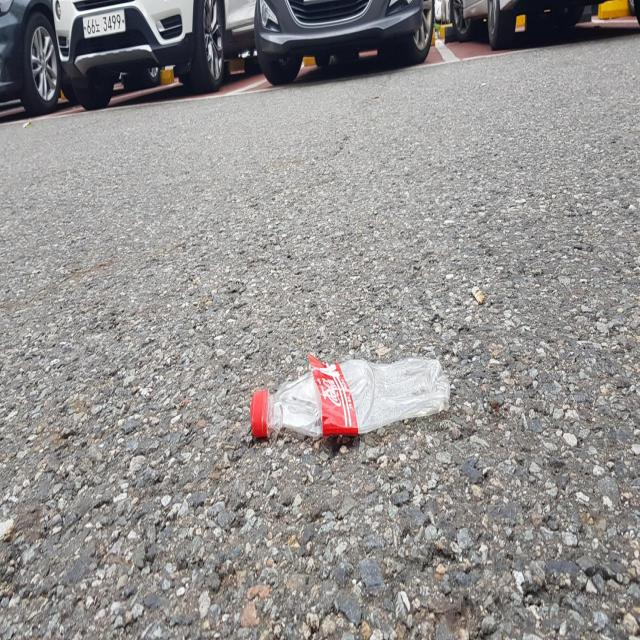plastic: (250, 351, 451, 437)
